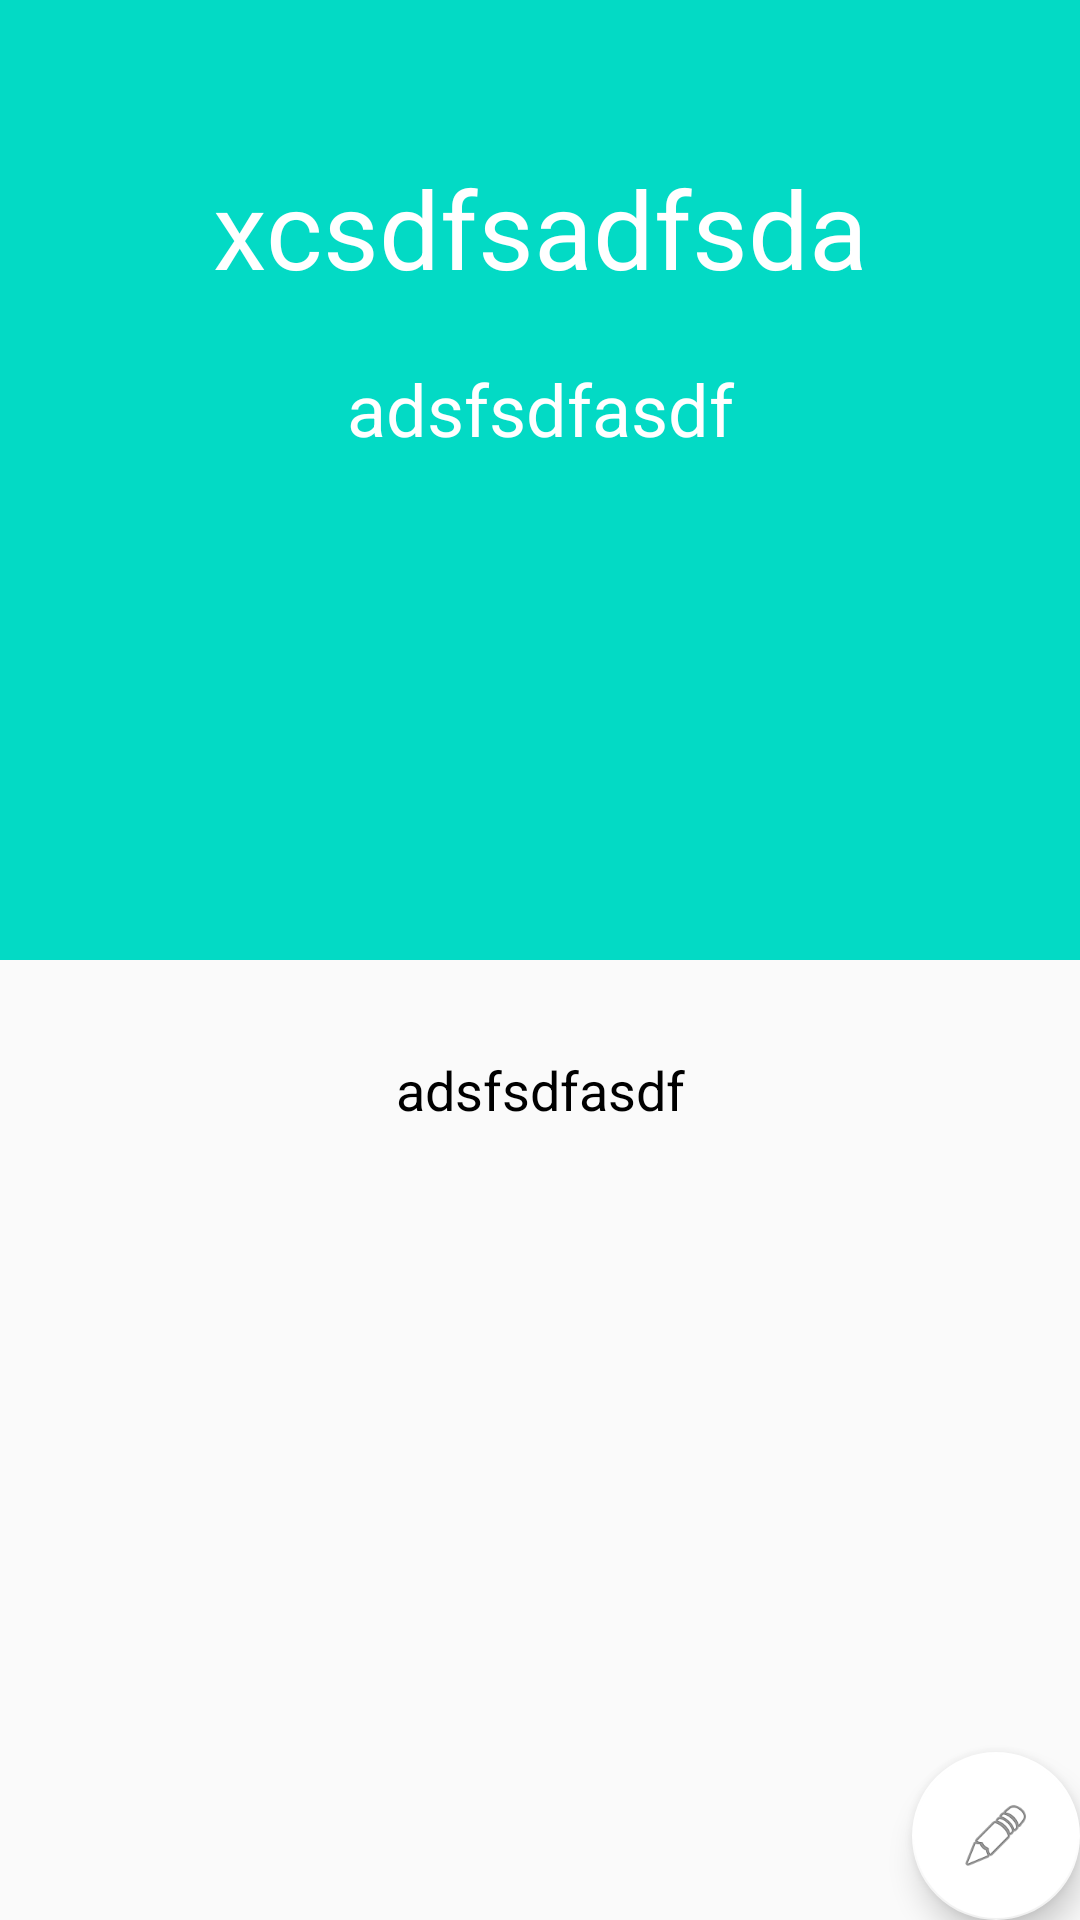

Screen size 1080w x 1920h. Icon name, then its center in pixels as (x=x, y=y):
edit: (x=999, y=1862)
